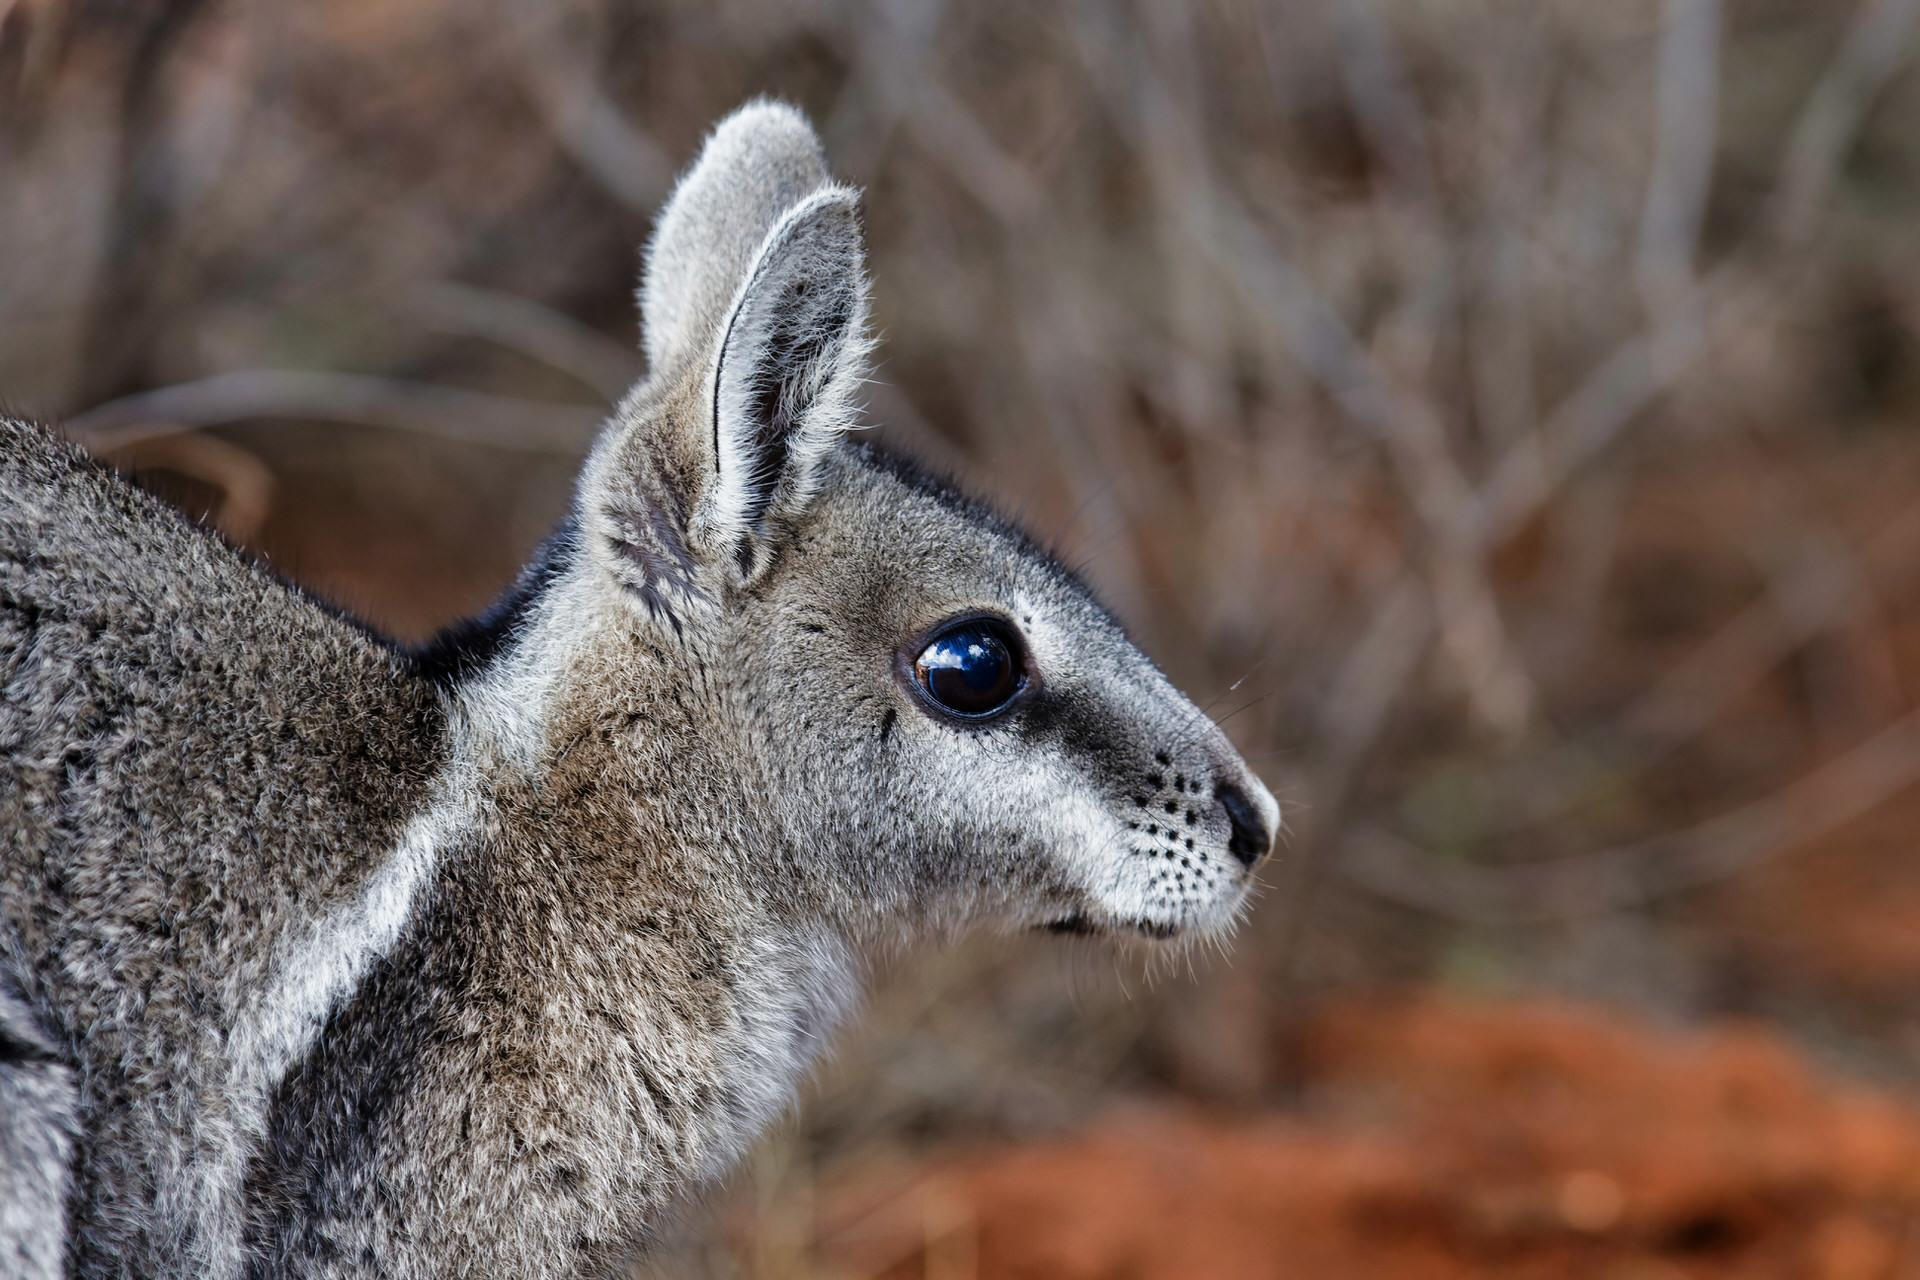Bridled-nail-tail wallaby: (0, 90, 1286, 1280)
